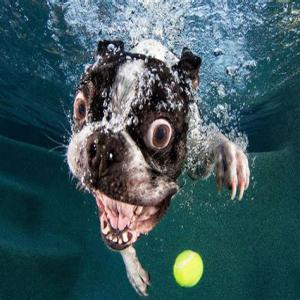Tennis: (171, 246, 208, 294)
